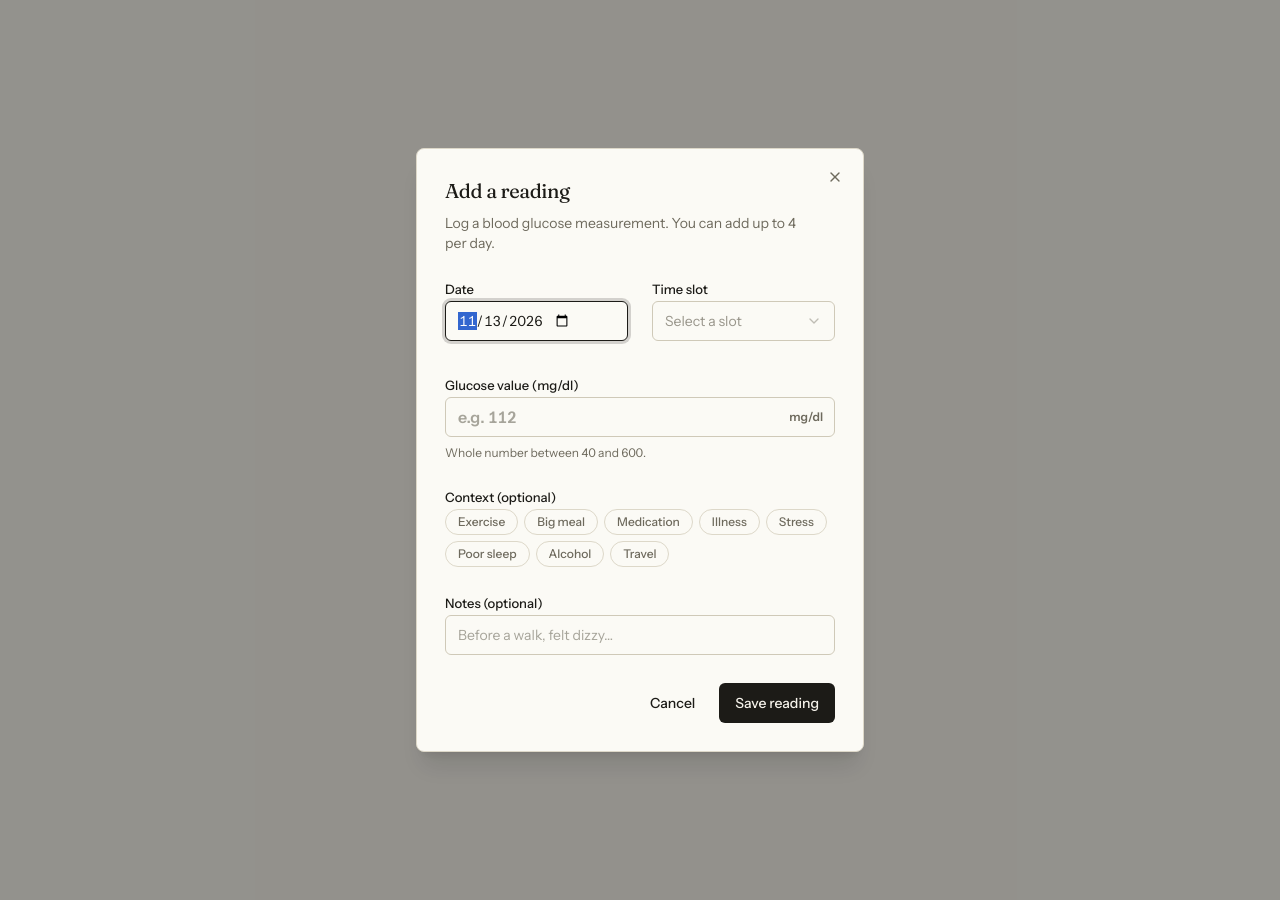
saving a low reading › shows the alert after the reading is saved
The image size is (1280, 900).
Click the dropdown named "time slot": (744, 321) [652,301,835,341]
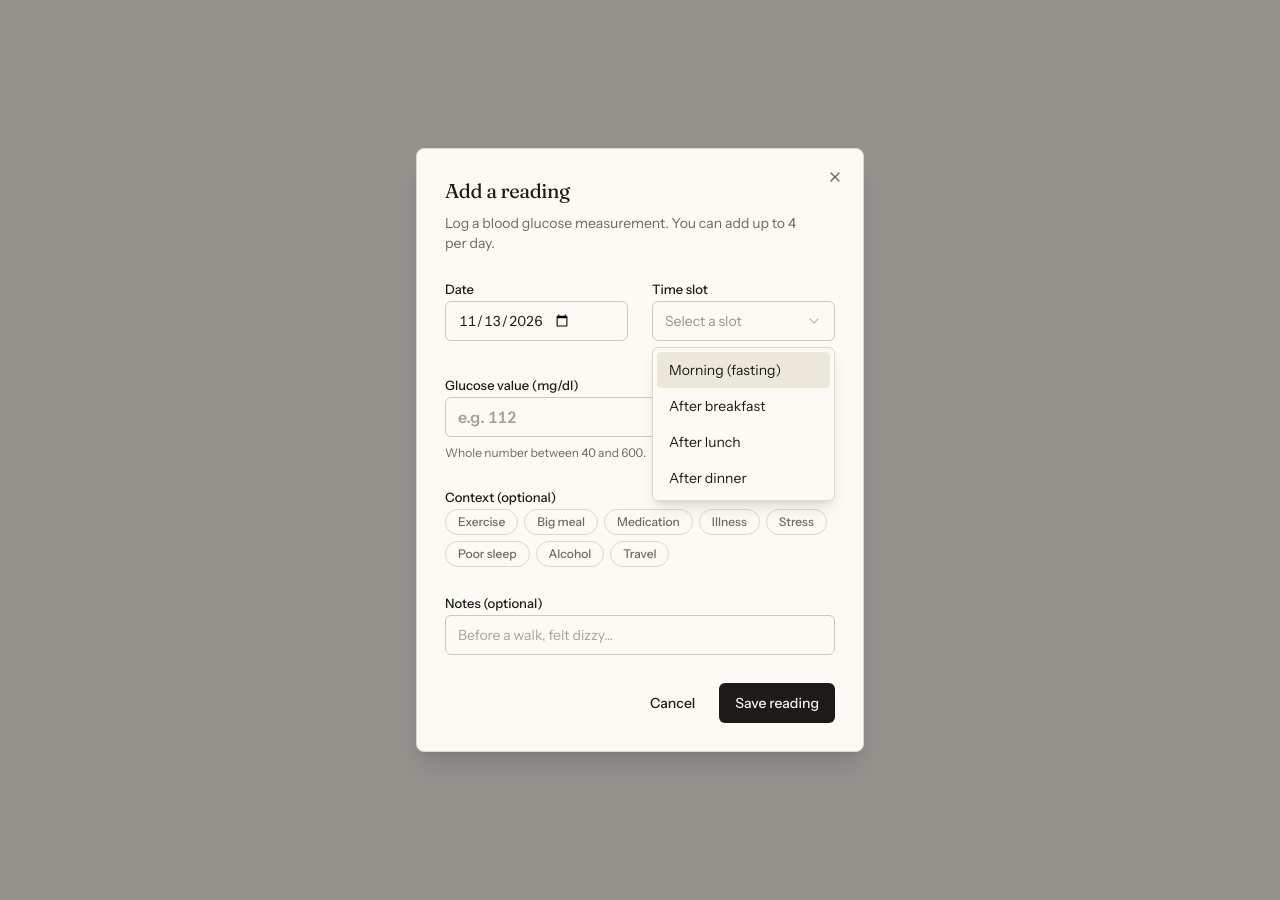
Click the option "After lunch": (705, 442) [669,433,741,451]
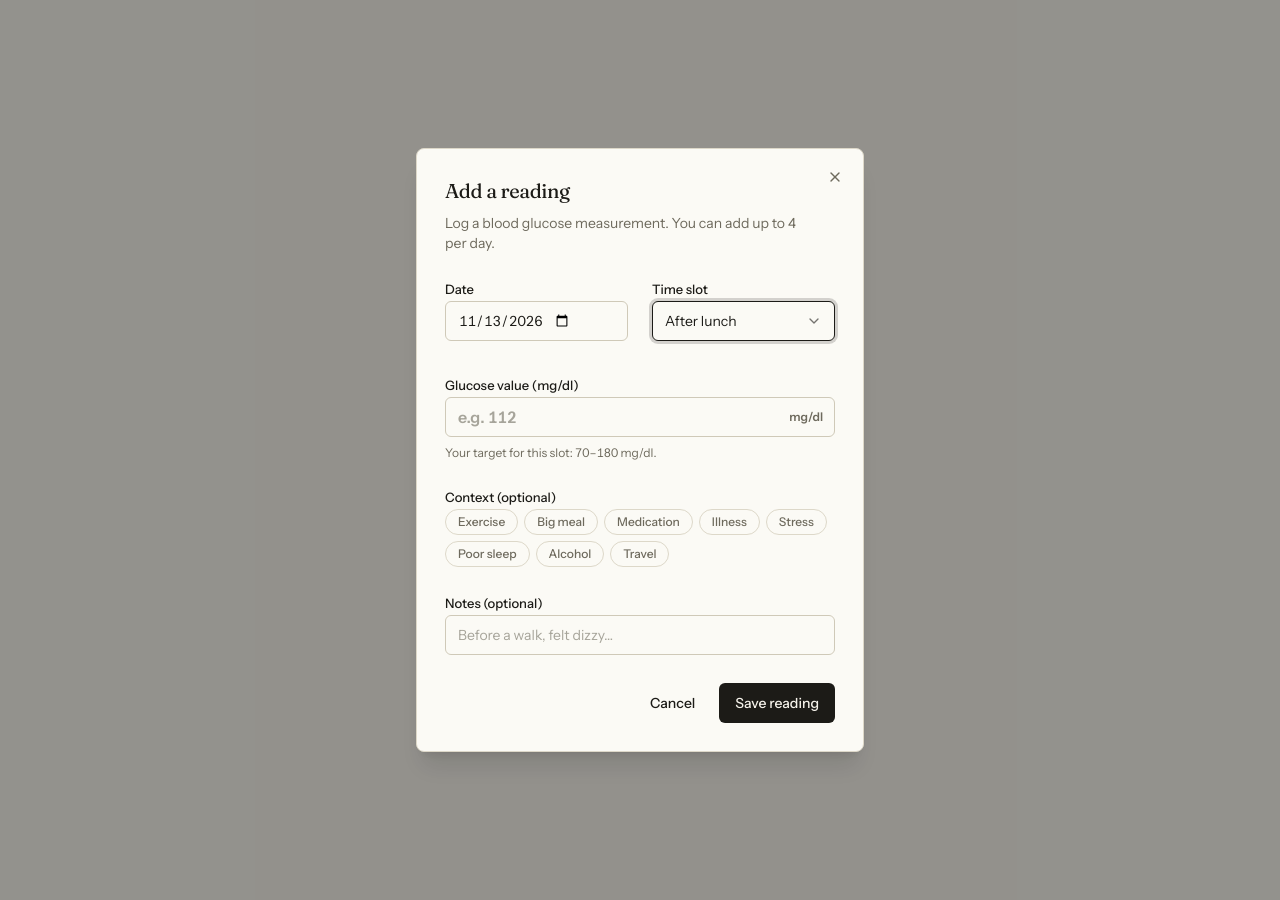
In the field labelled "Glucose value (mg/dl)": (640, 417) [445,397,835,437], type "48"
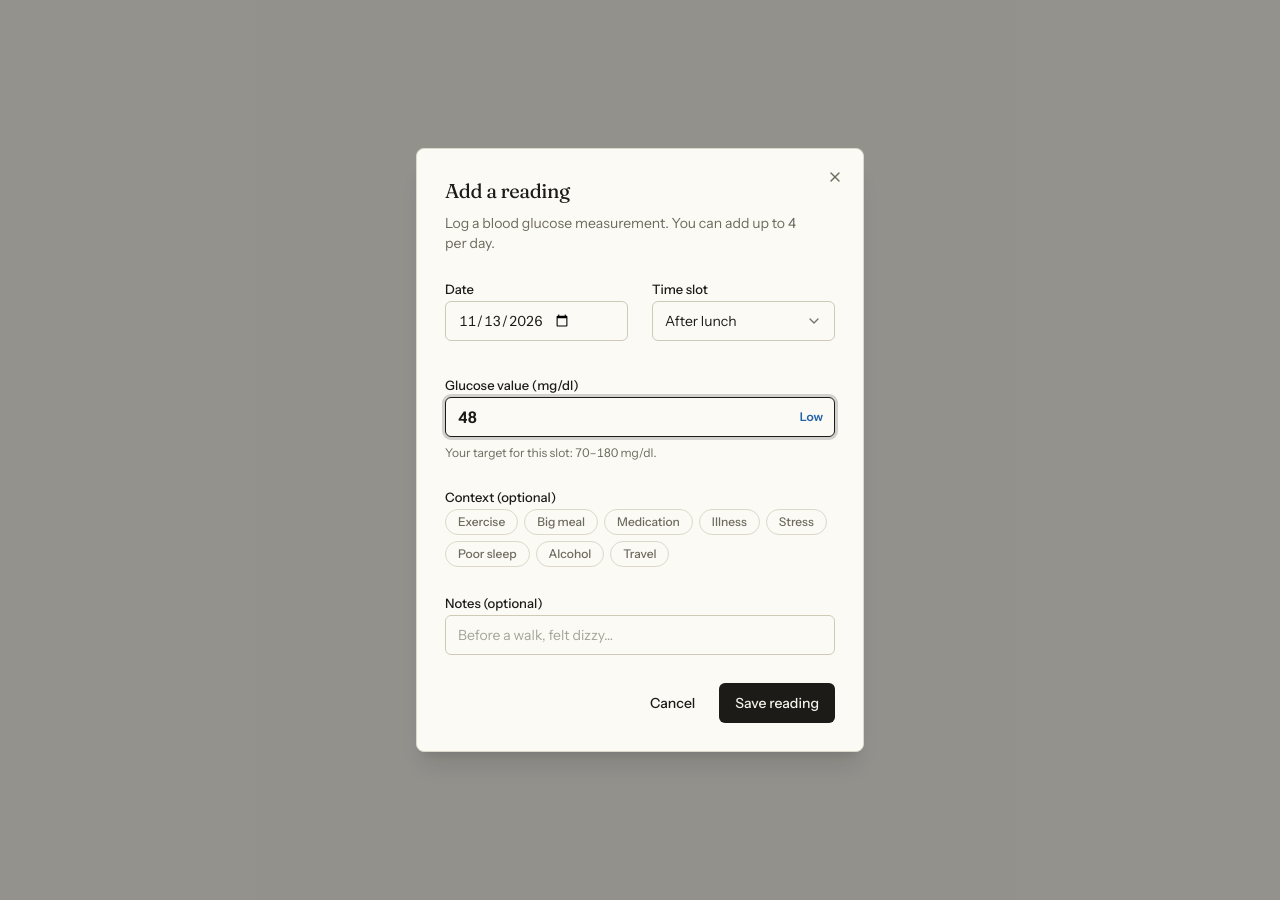
Click the button "Save reading": (777, 703) [719,683,835,723]
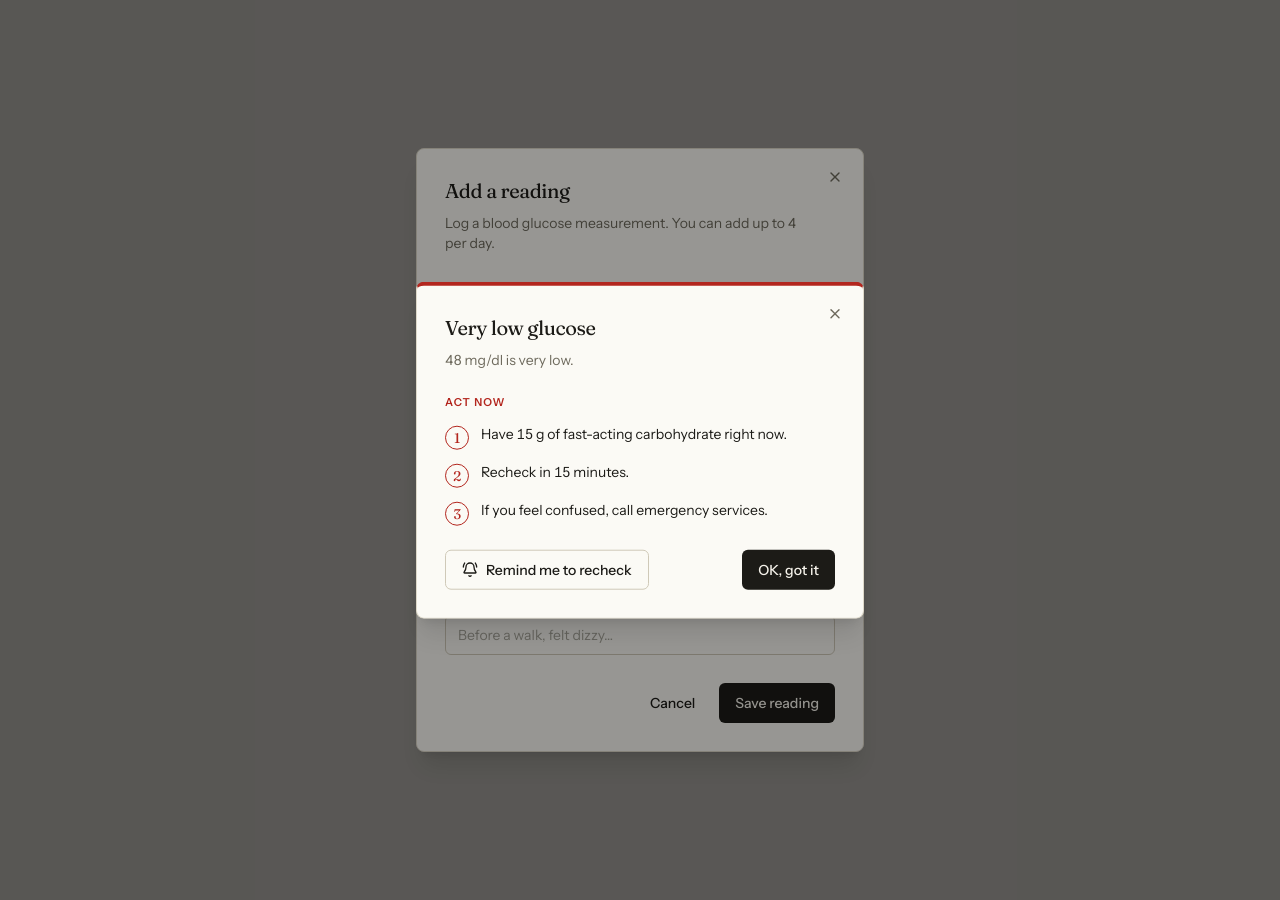
Expected: the dialog that starts with "Very low glucose" is shown, [445,315,596,340]
